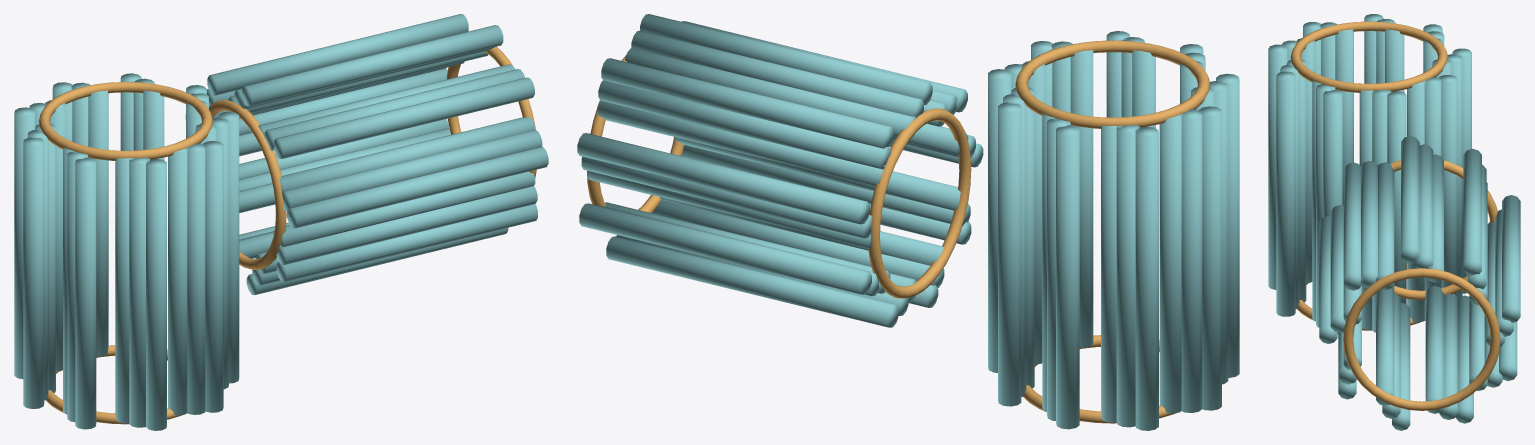
File: centrosome.glb
The picture shows the model from 3 angles, left to right: view 1: azimuth 30°, elevation 25°; view 2: azimuth 150°, elevation 25°; view 3: azimuth 270°, elevation 25°; orthographic projection. The views are drawn at different scales.
Parts seen in each view (by area): view 1: microtubule-triplets, centriole-linkers; view 2: microtubule-triplets, centriole-linkers; view 3: microtubule-triplets, centriole-linkers.
Part boxes in pixels (left/top/right/bottom): microtubule-triplets: left=14, top=14, right=548, bottom=430; centriole-linkers: left=38, top=46, right=536, bottom=424; microtubule-triplets: left=577, top=14, right=1239, bottom=430; centriole-linkers: left=587, top=40, right=1210, bottom=423; microtubule-triplets: left=1268, top=14, right=1520, bottom=430; centriole-linkers: left=1290, top=21, right=1500, bottom=410.
Size of the model in its own units: 4.44 by 2.33 by 2.16.
